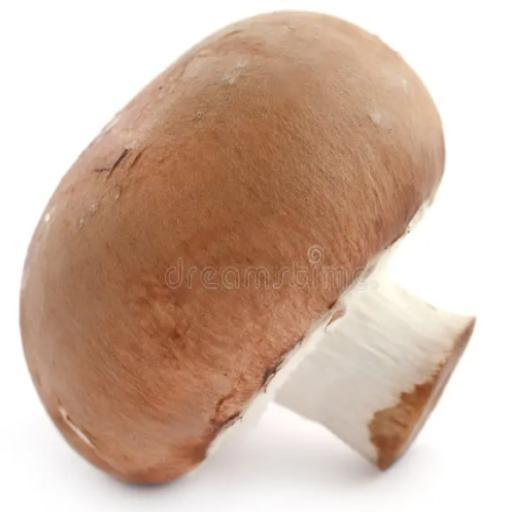mushroom: (15, 8, 480, 492)
